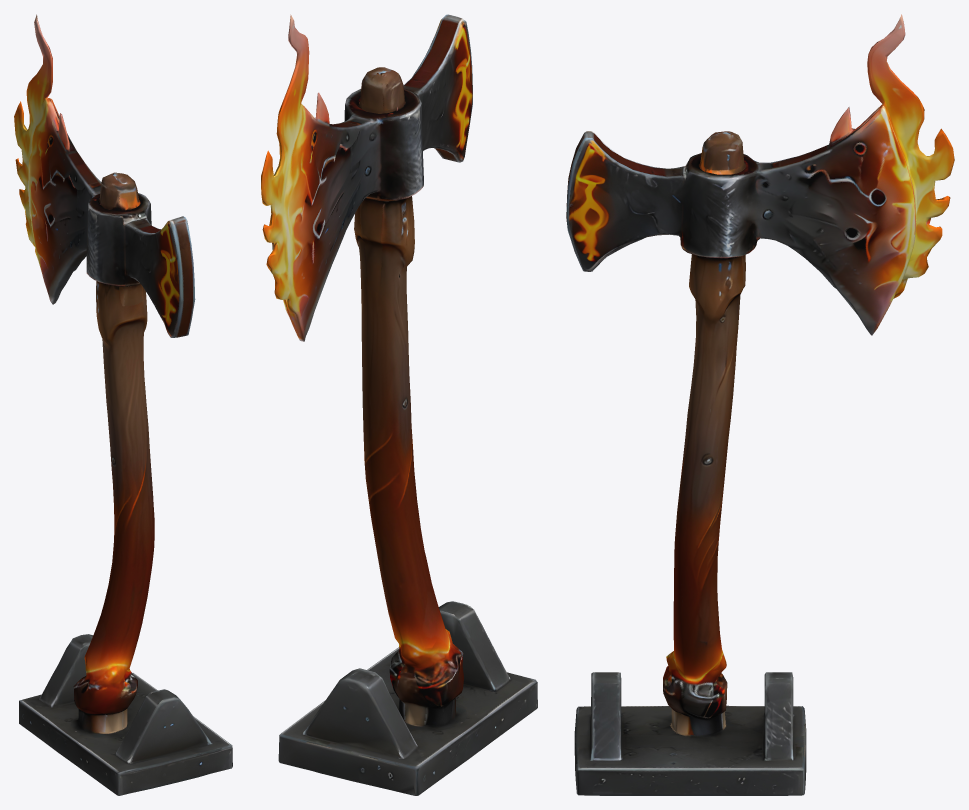
File: fire+axe+3d+model.obj
3 renders of one model, left to right at view 1: azimuth 30°, elevation 25°; view 2: azimuth 150°, elevation 25°; view 3: azimuth 270°, elevation 25°, orthographic. The views are drawn at different scales.
Parts seen in each view (by area): view 1: tripo_node_dd1b13c2-2cd7-40b1-9fd9-e8aff70e4787; view 2: tripo_node_dd1b13c2-2cd7-40b1-9fd9-e8aff70e4787; view 3: tripo_node_dd1b13c2-2cd7-40b1-9fd9-e8aff70e4787.
Boxes of the visible parts, box(x1,y1,x2,y2) form: tripo_node_dd1b13c2-2cd7-40b1-9fd9-e8aff70e4787: box(14, 14, 232, 795); tripo_node_dd1b13c2-2cd7-40b1-9fd9-e8aff70e4787: box(261, 14, 537, 795); tripo_node_dd1b13c2-2cd7-40b1-9fd9-e8aff70e4787: box(566, 14, 954, 795).
Bounding box in the file's own units: 0.1851 × 1 × 0.4679.
1 material, 1 textured.
